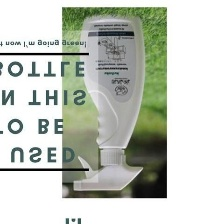cleaning_solution: (70, 11, 147, 193)
